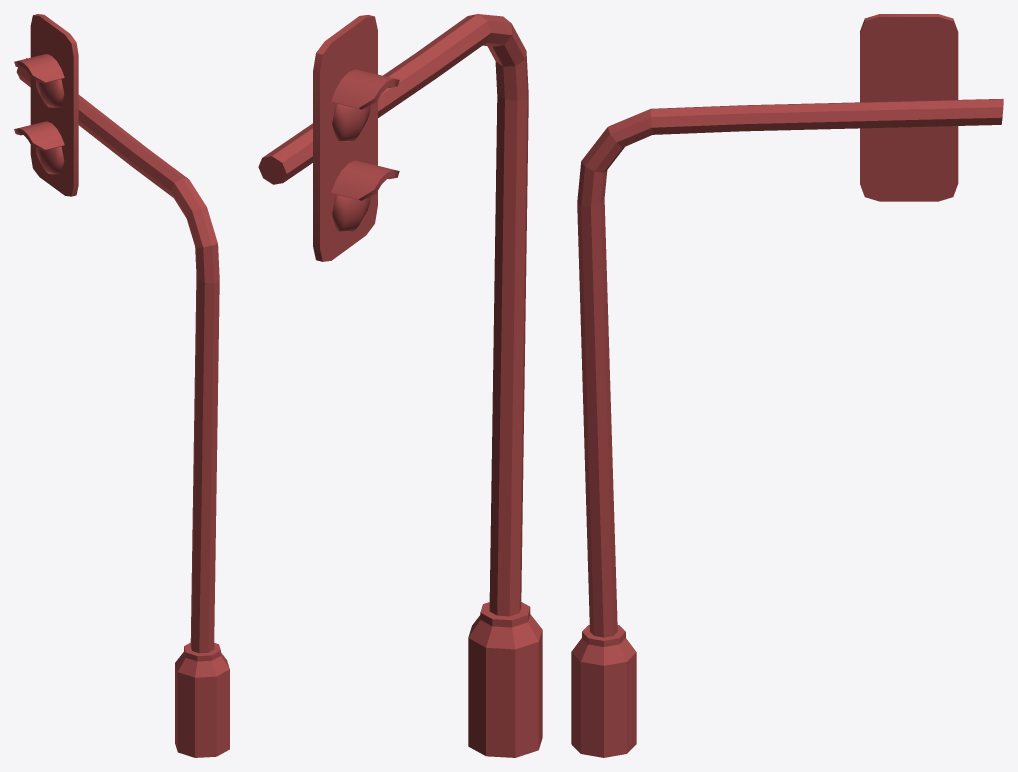
Rendered from Prop_TrafficLight.FBX.
3 renders of one model, left to right at view 1: azimuth 30°, elevation 25°; view 2: azimuth 150°, elevation 25°; view 3: azimuth 270°, elevation 25°, orthographic. The views are drawn at different scales.
Visible parts, largest first — view 1: Prop_Stoplight; view 2: Prop_Stoplight; view 3: Prop_Stoplight.
Boxes of the visible parts, x1,y1,x2,y2 form: Prop_Stoplight: (14,14,229,757); Prop_Stoplight: (258,14,542,757); Prop_Stoplight: (571,14,1003,757).
Size of the model in its own units: 53.41 by 455 by 248.
